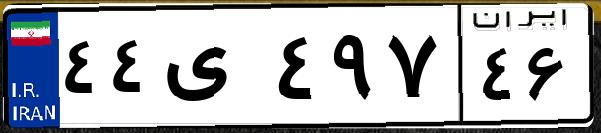4: (270, 28, 330, 110), (57, 26, 110, 100), (475, 38, 525, 113), (110, 28, 158, 98)
6: (525, 38, 570, 115)
7: (385, 28, 445, 110)
9: (330, 28, 385, 110)
ی: (158, 20, 270, 120)
